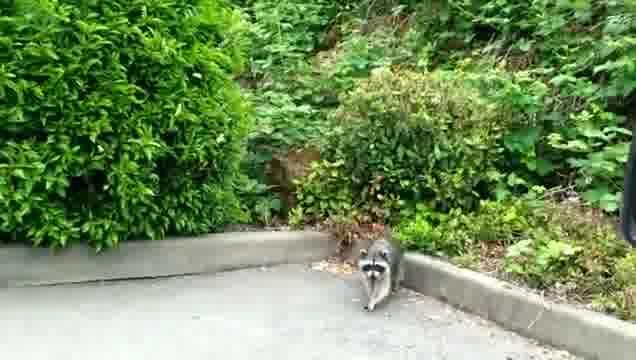raccoon: (359, 236, 405, 310)
